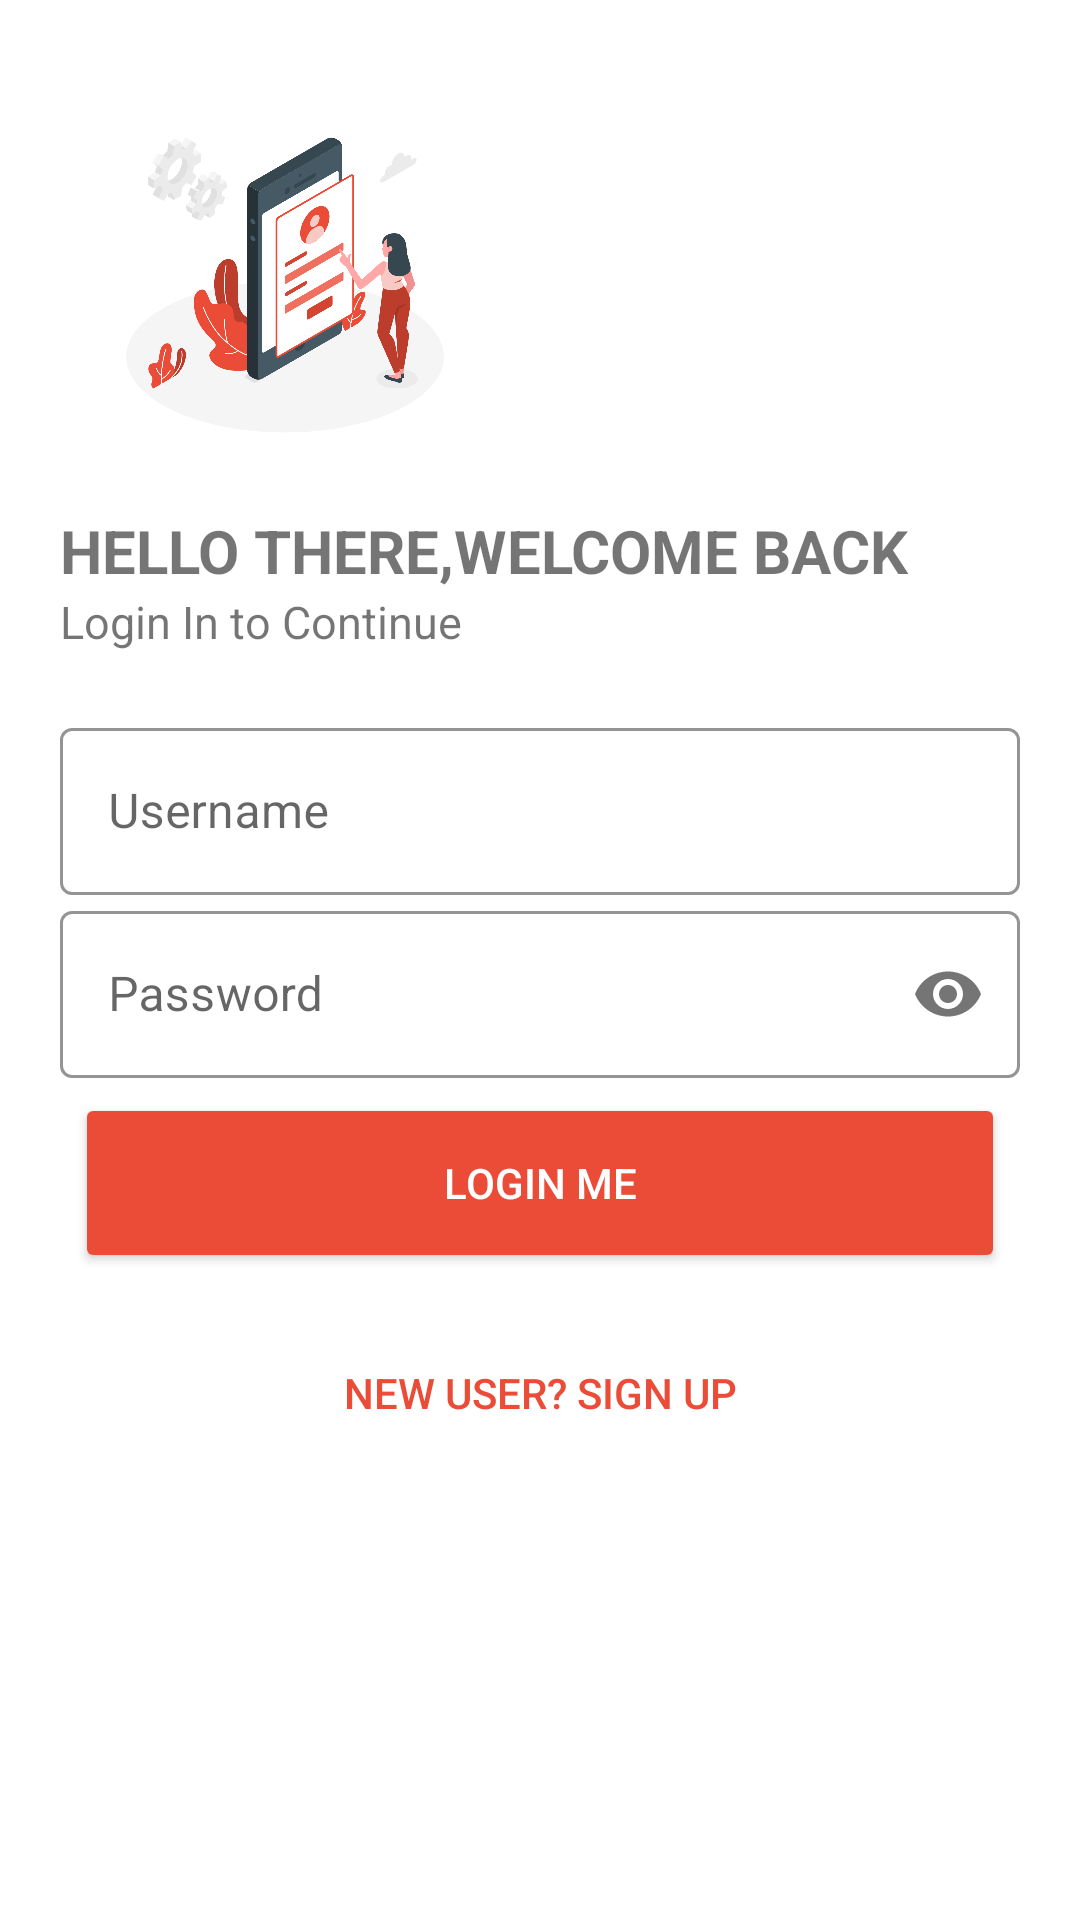

Where to tap for icons on this 1080 × 1920 app screen, as (x=x, y=y):
login animi: (x=281, y=263)
